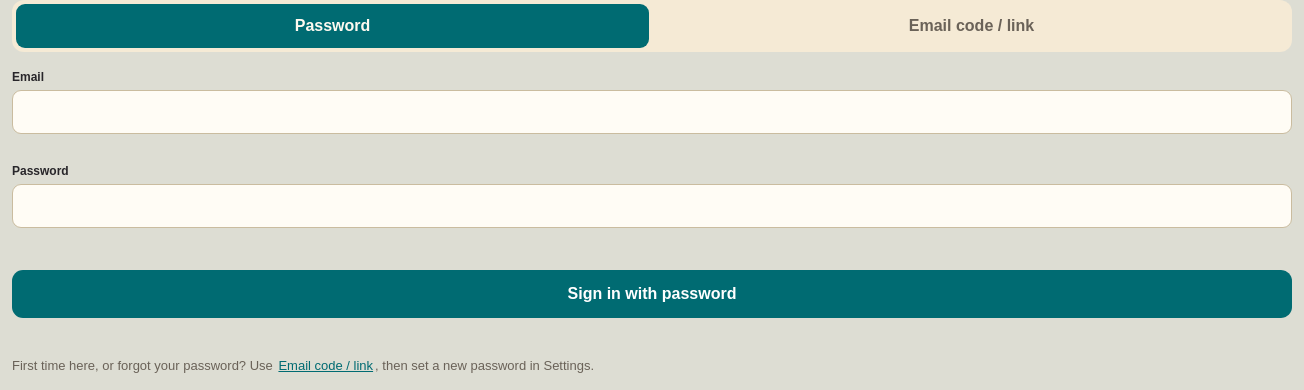
in-app email login › can resume with an existing email after the PWA is reopened
Click the tab "Email code / link" at (972, 26), box [655,4,1288,48]
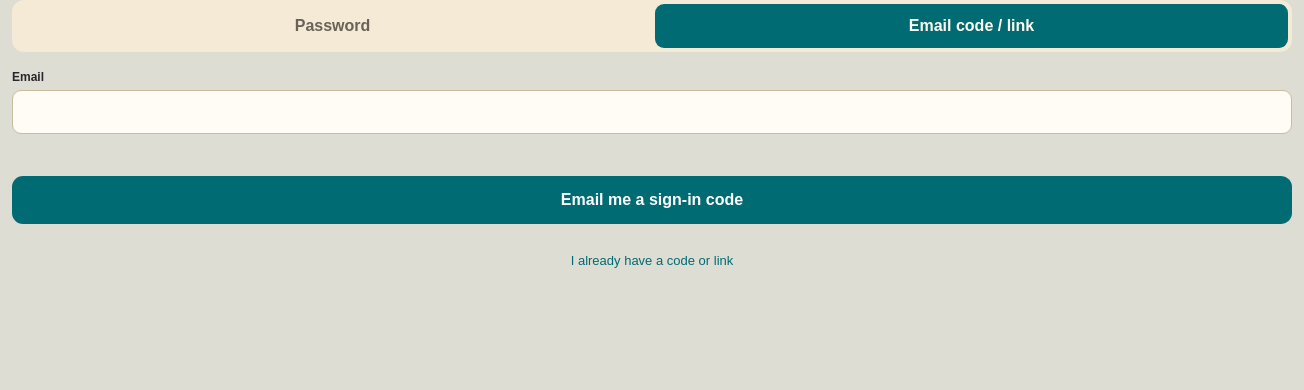
Type "traveller@example.com" into the field labelled "Email" at (652, 112), box [12,90,1292,134]
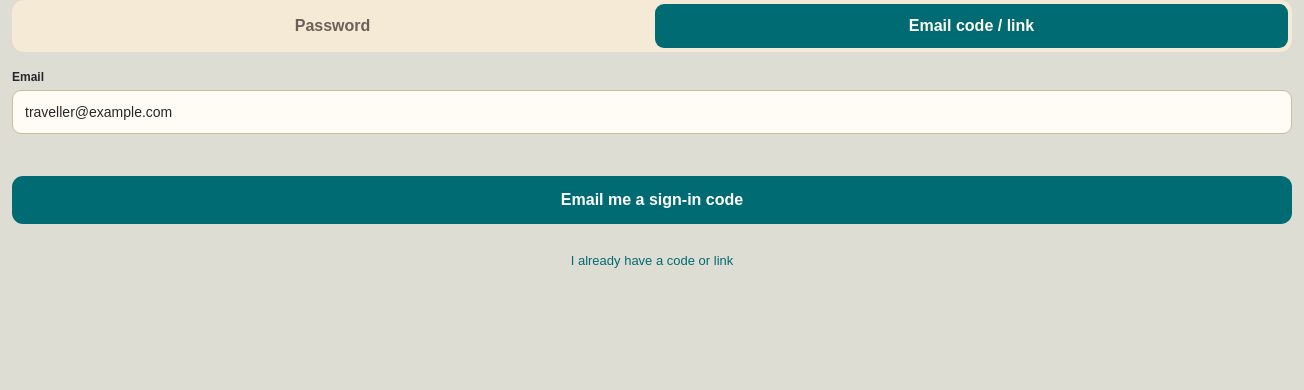
Click the button "I already have a code or link" at (652, 260), box [12,238,1292,282]
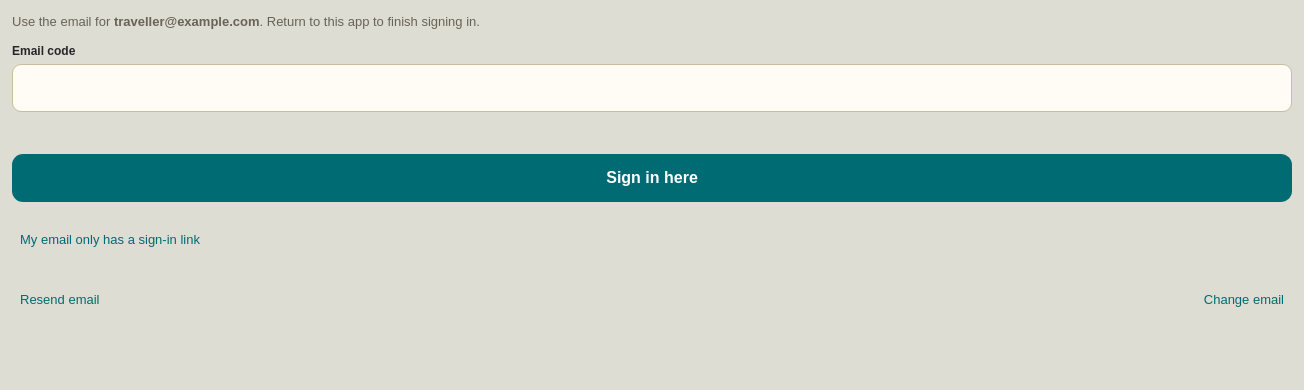
Result: the field labelled "Email code" is shown at [12,64,1292,112]
